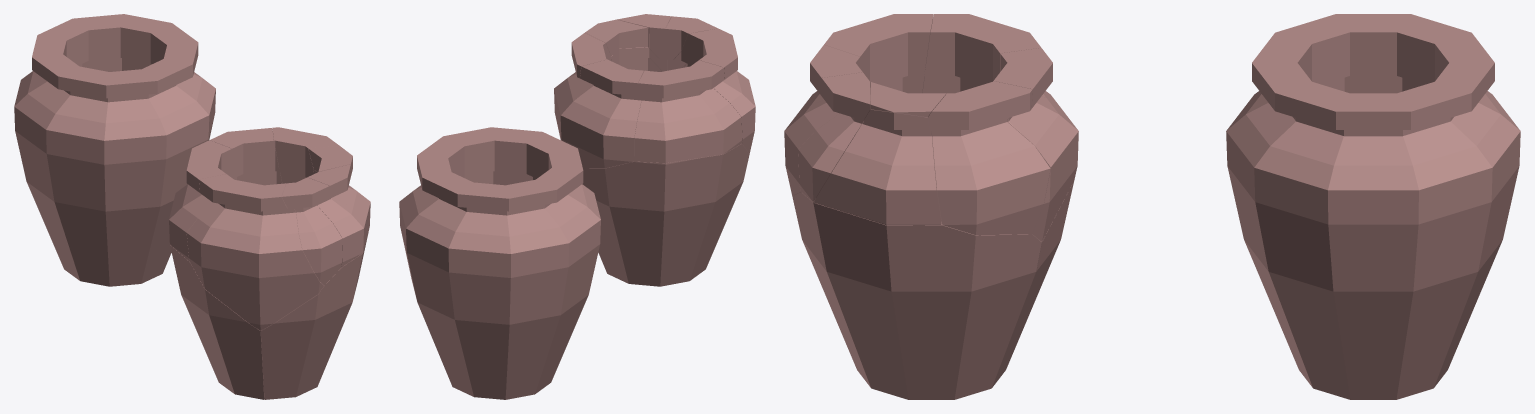
Rendered from Vase.fbx.
The picture shows the model from 3 angles, left to right: view 1: azimuth 30°, elevation 25°; view 2: azimuth 150°, elevation 25°; view 3: azimuth 270°, elevation 25°; orthographic projection. The views are drawn at different scales.
Visible parts, largest first — view 1: Vase, Cylinder.001_cell.004, VaseBroken, Cylinder.001_cell.003, Cylinder.001_cell.007, Cylinder.001_cell.006, Cylinder.001_cell.001, Cylinder.001_cell.005, Cylinder.001_cell.008, Cylinder.001_cell, Cylinder.001_cell.009; view 2: Vase, Cylinder.001_cell.003, Cylinder.001_cell.006, Cylinder.001_cell.001, Cylinder.001_cell.004, Cylinder.001_cell.008, Cylinder.001_cell, Cylinder.001_cell.007, Cylinder.001_cell.005, Cylinder.001_cell.009; view 3: Vase, VaseBroken, Cylinder.001_cell.008, Cylinder.001_cell.009, Cylinder.001_cell.001, Cylinder.001_cell.006, Cylinder.001_cell.004, Cylinder.001_cell.005, Cylinder.001_cell.007, Cylinder.001_cell.003, Cylinder.001_cell.
Part boxes in pixels (x1,y1,x2,y2): Vase: (14, 14, 215, 286); Cylinder.001_cell.004: (186, 174, 323, 330); VaseBroken: (260, 229, 369, 399); Cylinder.001_cell.003: (170, 245, 264, 399); Cylinder.001_cell.007: (281, 177, 342, 285); Cylinder.001_cell.006: (169, 140, 232, 261); Cylinder.001_cell.001: (210, 128, 282, 185); Cylinder.001_cell.005: (307, 164, 365, 267); Cylinder.001_cell.008: (272, 127, 339, 183); Cylinder.001_cell: (308, 146, 352, 171); Cylinder.001_cell.009: (313, 157, 370, 251); Vase: (399, 127, 600, 399); Cylinder.001_cell.003: (582, 144, 749, 286); Cylinder.001_cell.006: (634, 60, 742, 163); Cylinder.001_cell.001: (560, 59, 643, 168); Cylinder.001_cell.004: (674, 28, 755, 153); Cylinder.001_cell.008: (554, 33, 611, 140); Cylinder.001_cell: (585, 19, 648, 56); Cylinder.001_cell.007: (665, 16, 717, 70); Cylinder.001_cell.005: (617, 14, 671, 71); Cylinder.001_cell.009: (611, 47, 661, 71); Vase: (1226, 14, 1520, 399); VaseBroken: (793, 192, 1041, 399); Cylinder.001_cell.008: (928, 81, 1050, 235); Cylinder.001_cell.009: (813, 109, 941, 225); Cylinder.001_cell.001: (994, 48, 1078, 241); Cylinder.001_cell.006: (922, 14, 1064, 118); Cylinder.001_cell.004: (788, 14, 933, 199); Cylinder.001_cell.005: (798, 72, 870, 201); Cylinder.001_cell.007: (784, 45, 862, 194); Cylinder.001_cell.003: (992, 181, 1073, 387); Cylinder.001_cell: (870, 82, 946, 117).
Size of the model in its own units: 159 by 193 by 419.
